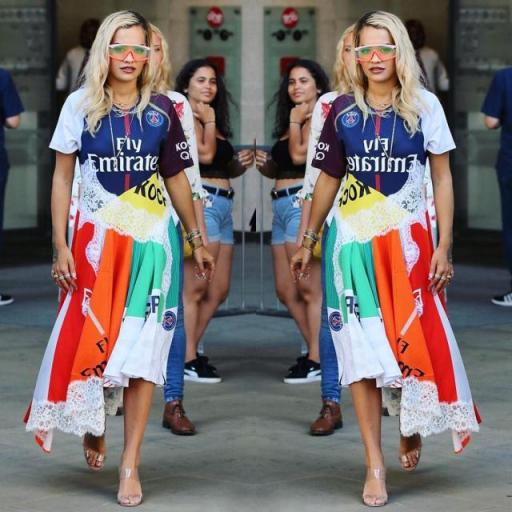Emirates: (90, 135, 160, 174)
